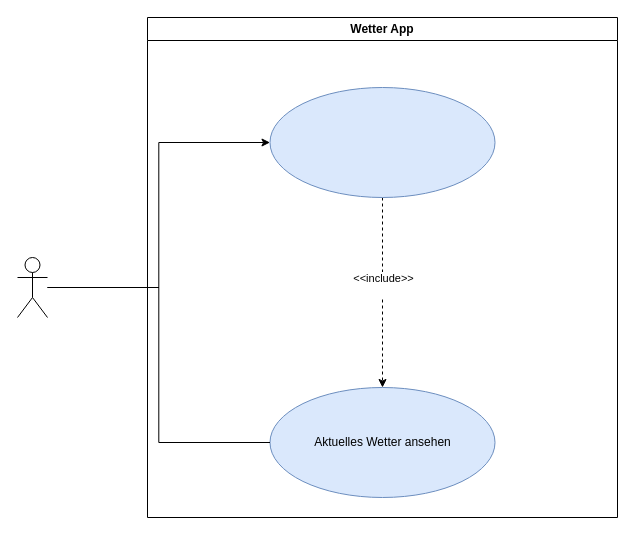
This 635x535 diagram has some shape labels left out. Each missing label, with the centre of its shape:
"Stadt auswählen" belongs at (x=382, y=142).
"User" belongs at (x=32, y=287).
